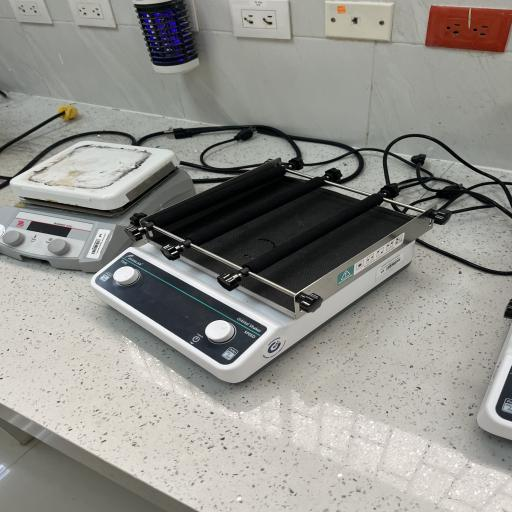Agitador_Orbital_DLAB: (76, 151, 458, 398)
